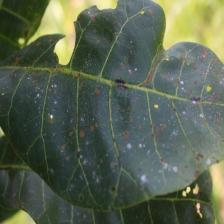red rust: (0, 1, 223, 209)
